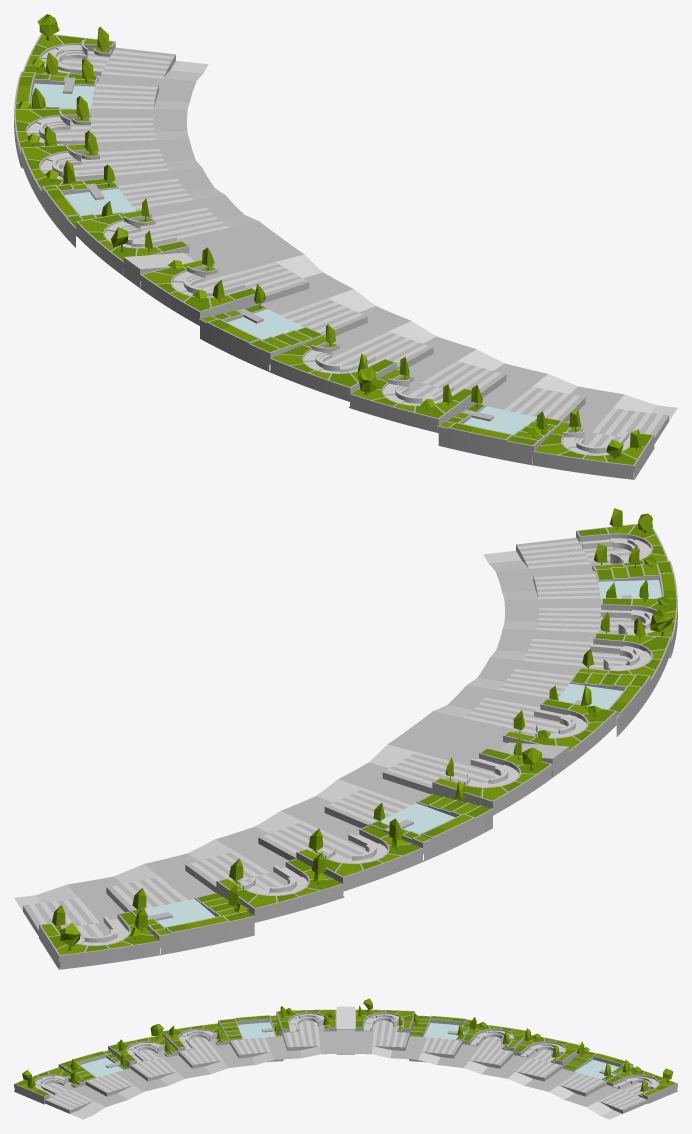
Rendered from ring3_segment_low.glb.
3 renders of one model, top to bottom at view 1: azimuth 30°, elevation 25°; view 2: azimuth 150°, elevation 25°; view 3: azimuth 270°, elevation 25°, orthographic. The views are drawn at different scales.
Parts seen in each view (by area): view 1: RING_3_MOD_LOW; view 2: RING_3_MOD_LOW; view 3: RING_3_MOD_LOW.
Part boxes in pixels (x1,y1,x2,y2): RING_3_MOD_LOW: [14, 14, 677, 479]; RING_3_MOD_LOW: [14, 508, 677, 969]; RING_3_MOD_LOW: [14, 998, 677, 1119].
Bounding box in the file's own units: 4664 × 991 × 15327.
